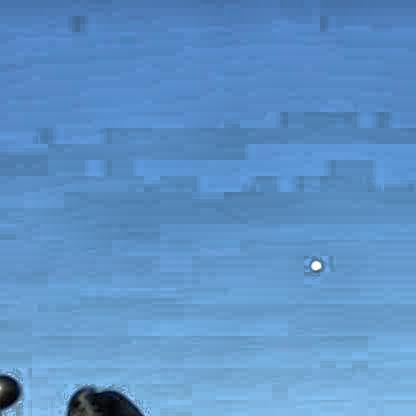golfball: (307, 255, 321, 270)
